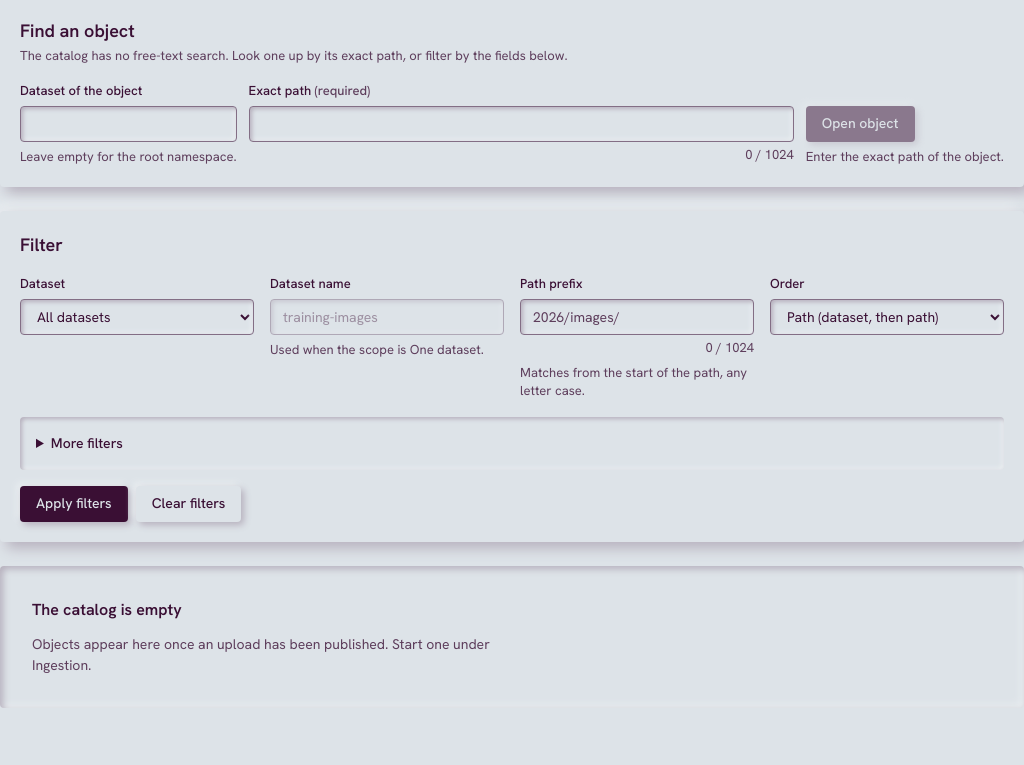
Test case: CatalogList › disables Apply filters when the size range is backwards, but not when empty
Expected: the button "Apply filters" is enabled, [20,486,128,522]
Click the heading "More filters": click(87, 443) [51,434,123,452]
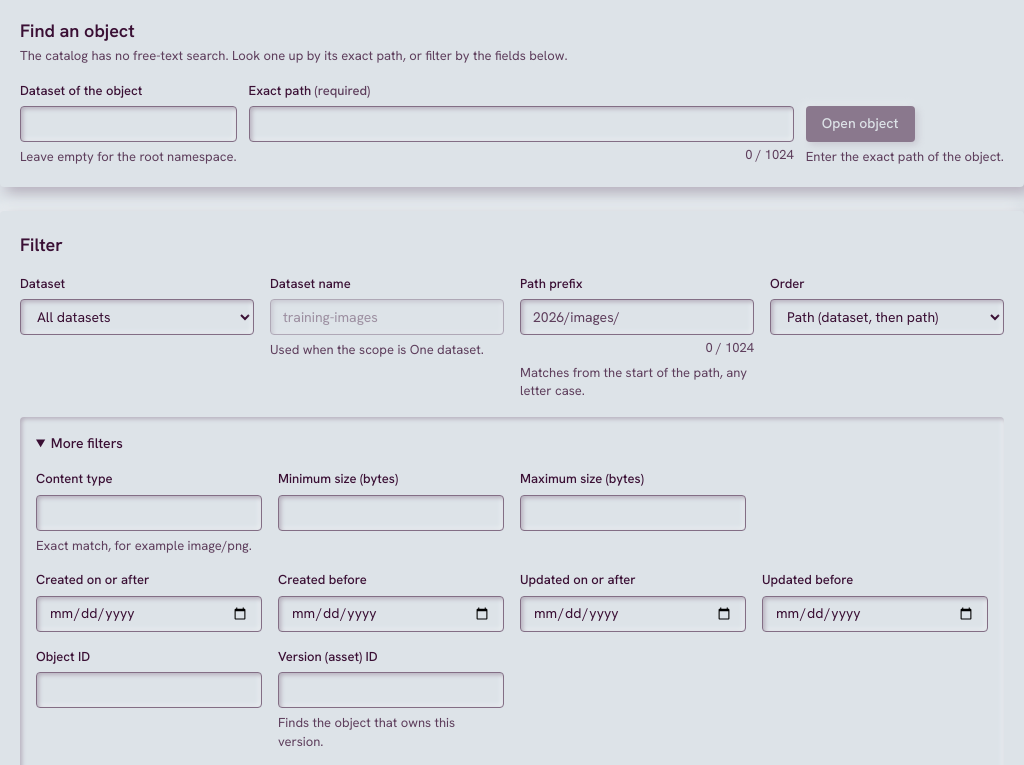
In the field labelled "Minimum size (bytes)": (391, 512) [278,494,504,530], type "2,000"
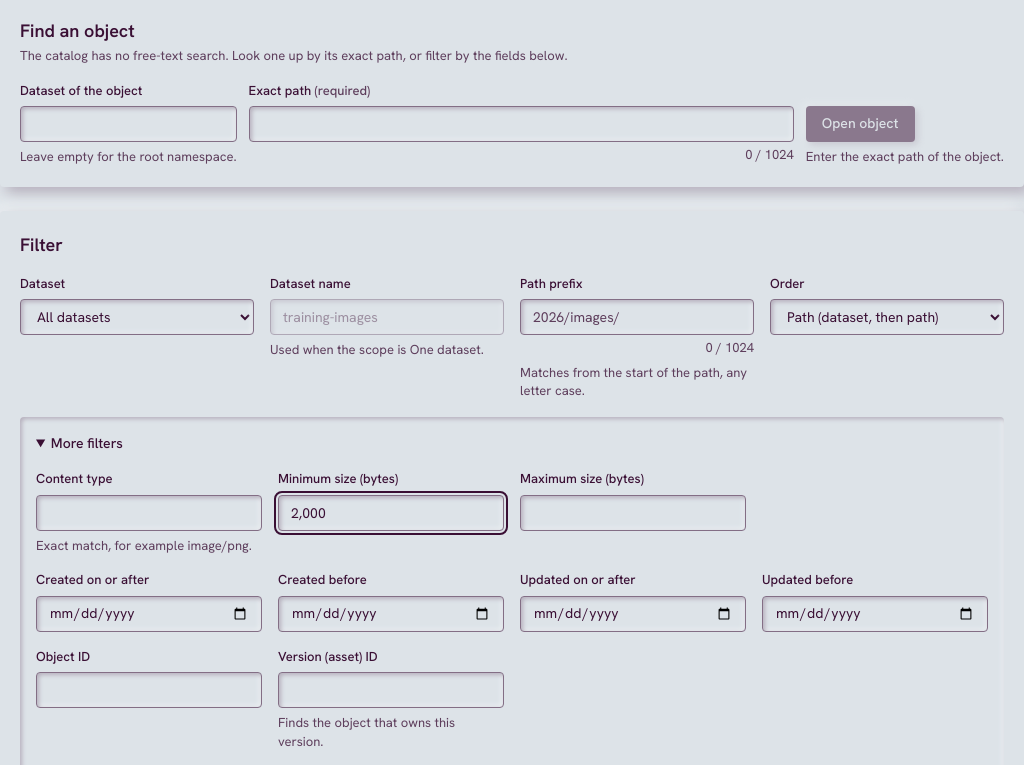
In the field labelled "Maximum size (bytes)": (633, 512) [520,494,746,530], type "10"
(page scrolled)
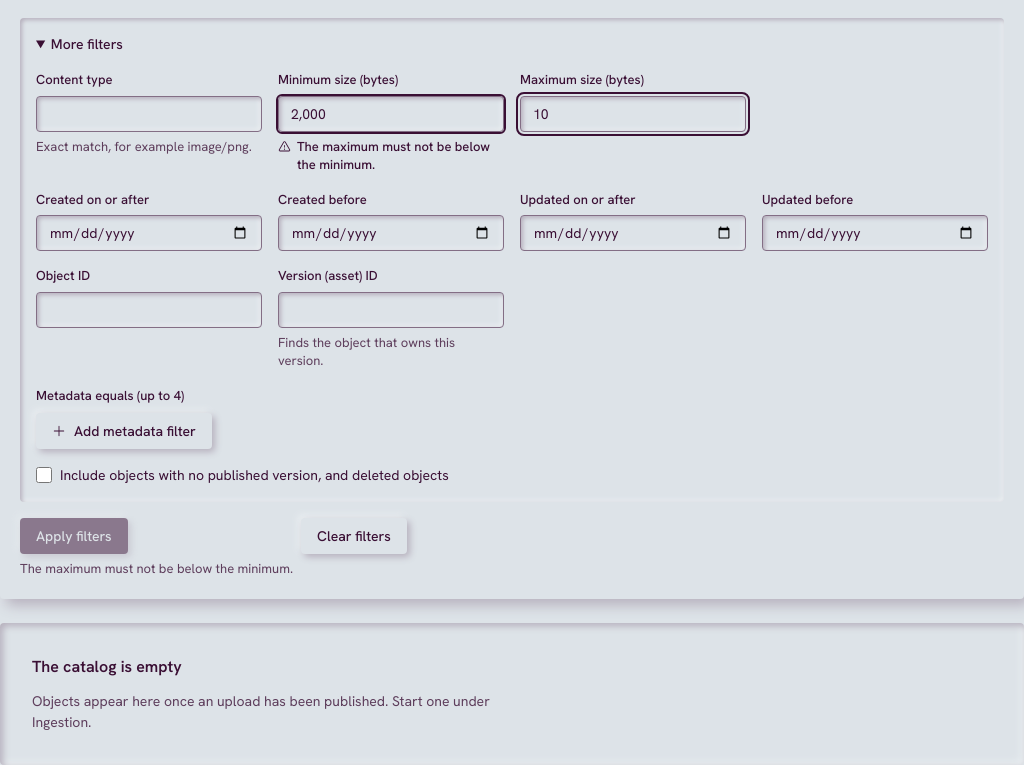
Result: the button "Apply filters" is disabled at [20,518,128,554]
